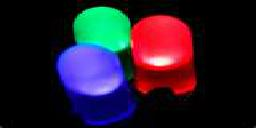LED: (52, 45, 129, 125), (131, 16, 199, 99), (68, 7, 128, 44)
